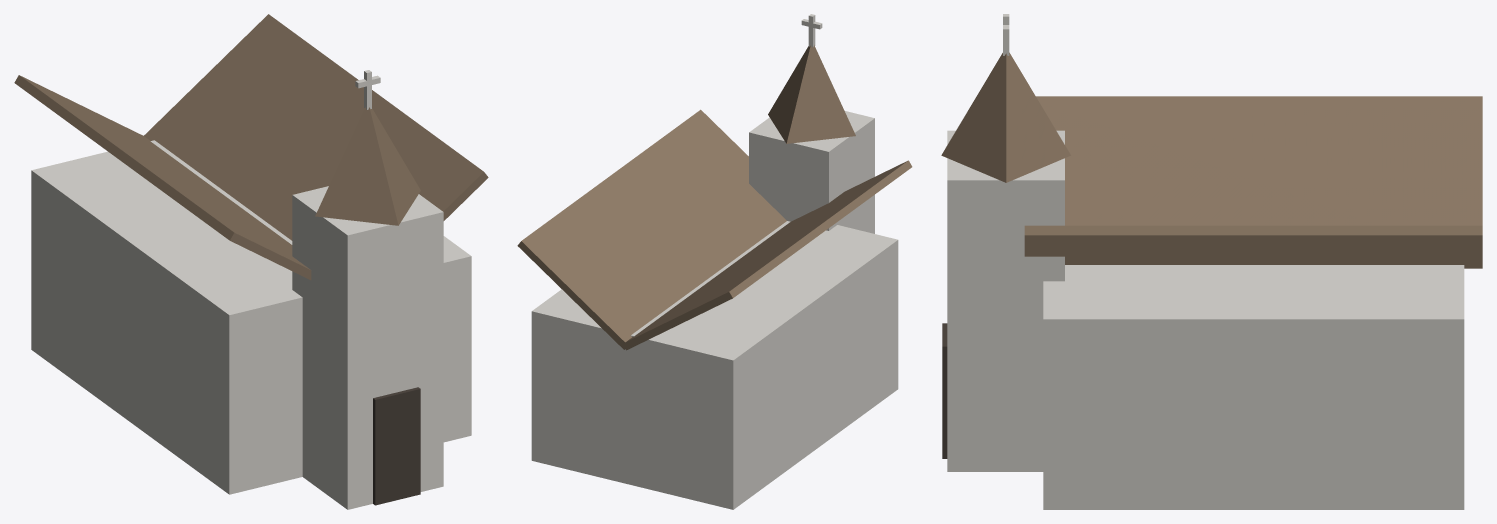
Rendered from Church.glb.
3 renders of one model, left to right at view 1: azimuth 30°, elevation 25°; view 2: azimuth 150°, elevation 25°; view 3: azimuth 270°, elevation 25°, orthographic. The views are drawn at different scales.
Visible parts, largest first — view 1: Church; view 2: Church; view 3: Church.
Part boxes in pixels (bbox=[...]): Church: bbox=[14, 14, 488, 509]; Church: bbox=[517, 14, 912, 509]; Church: bbox=[941, 14, 1482, 509].
Bounding box in the file's own units: 5.13 × 7.7 × 8.75.
